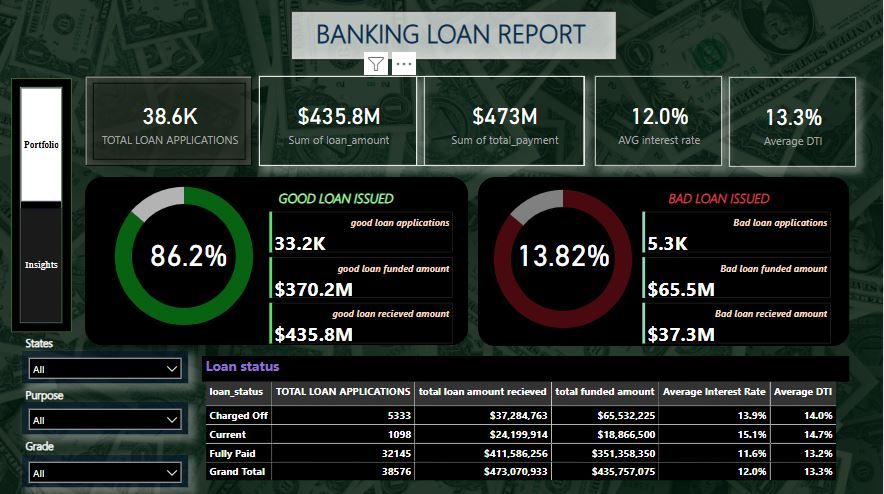

What the dashboard file says about the page in this screenshot:
{"tool":"powerbi","page":{"name":"Portfolio","canvas":[1280,720],"ordinal":0},"visuals":[{"type":"shape","box":[123.3,112,242.4,130.4],"z":0},{"type":"card","fields":{"Values":["Sum(financial_loan.loan_amount)"]},"box":[375.6,112,229.4,130.4],"z":0,"group":"g1"},{"type":"card","fields":{"Values":["financial_loan.AVG DTI"]},"box":[1055.4,113.4,183.9,130.4],"z":0,"group":"g2"},{"type":"textbox","box":[422.4,17,472,70.9],"z":1000},{"type":"card","fields":{"Values":["Sum(financial_loan.total_payment)"]},"box":[615.2,112,232.4,130.4],"z":1000,"group":"g1"},{"type":"card","fields":{"Values":["date table.AVG interest rate"]},"box":[861.7,112,184.3,130.4],"z":1000,"group":"g2"},{"type":"card","fields":{"Values":["financial_loan.TOTAL LOAN APPLICATIONS"]},"box":[134.6,121.9,221.1,110.6],"z":2000},{"type":"group","id":"g1","title":"Group 1","box":[375.6,112,472,130.4],"z":3000},{"type":"group","id":"g2","title":"Group 2","box":[861.7,112,377,131.8],"z":4000},{"type":"shape","box":[123.3,258,555.6,243.8],"z":5000},{"type":"shape","box":[693.1,258,538.6,245.2],"z":6000},{"type":"donutChart","fields":{"Y":["financial_loan.TOTAL LOAN APPLICATIONS"],"Category":["financial_loan.Good v/s Bad loans"]},"box":[103.5,242.4,327.4,260.8],"z":7000},{"type":"card","fields":{"Values":["financial_loan.Good Loan %"]},"box":[191.3,347.2,164.4,59.5],"z":8000},{"type":"textbox","box":[398.3,270.7,206.9,36.9],"z":9000},{"type":"cardVisual","fields":{"Data":["financial_loan.good loan applications","financial_loan.good loan funded amount","financial_loan.good good loan recieved amount"]},"box":[388.3,307.6,270.7,194.2],"z":10000},{"type":"donutChart","fields":{"Y":["financial_loan.TOTAL LOAN APPLICATIONS"],"Category":["financial_loan.Good v/s Bad loans"]},"box":[652,246.6,327.4,260.8],"z":11000},{"type":"card","fields":{"Values":["financial_loan.Bad Loan %"]},"box":[737,347.2,157.3,59.5],"z":12000},{"type":"cardVisual","fields":{"Data":["financial_loan.Bad loan applications","financial_loan.Bad loan funded amount","financial_loan.Bad loan recieved amount"]},"box":[928.3,307.6,277.8,194.2],"z":13000},{"type":"textbox","box":[963.8,270.7,206.9,36.9],"z":14000},{"type":"tableEx","title":"Loan status","fields":{"Values":["financial_loan.loan_status","financial_loan.TOTAL LOAN APPLICATIONS","financial_loan.total loan amount recieved","financial_loan.total funded amount","financial_loan.Average Interest Rate","financial_loan.Average DTI"]},"box":[293.4,517.3,938.3,185.7],"z":15000},{"type":"group","id":"g3","title":"Group 3","box":[32.6,483.3,240.9,225.4],"z":16000},{"type":"shape","box":[15.6,114.8,87.9,368.5],"z":17000},{"type":"slicer","fields":{"Values":["financial_loan.loan_status","financial_loan.address_state"]},"box":[32.6,510.6,240.9,47.4],"z":17000,"group":"g3"},{"type":"pageNavigator","box":[28.3,127.6,60.9,341.6],"z":18000},{"type":"textbox","box":[32.6,483.3,94.1,37.3],"z":18000,"group":"g3"},{"type":"slicer","fields":{"Values":["financial_loan.purpose"]},"box":[32.6,585.2,240.9,47.4],"z":19000,"group":"g3"},{"type":"slicer","fields":{"Values":["financial_loan.grade"]},"box":[32.6,661.3,240.9,47.4],"z":20000,"group":"g3"},{"type":"textbox","box":[32.6,557.9,120.5,37.3],"z":21000,"group":"g3"},{"type":"textbox","box":[32.6,632.6,94.1,37.3],"z":22000,"group":"g3"}]}

Visuals, with their boxes in screenshot pixels (x1, y1, x2, y2), scaled from the page's 1280x720 canvas onto the 884x494 screenshot:
shape: box=[85, 77, 253, 166]
card - Sum(financial_loan.loan_amount): box=[259, 77, 418, 166]
card - financial_loan.AVG DTI: box=[729, 78, 856, 167]
textbox: box=[292, 12, 618, 60]
card - Sum(financial_loan.total_payment): box=[425, 77, 585, 166]
card - date table.AVG interest rate: box=[595, 77, 722, 166]
card - financial_loan.TOTAL LOAN APPLICATIONS: box=[93, 84, 246, 160]
"Group 1" group: box=[259, 77, 585, 166]
"Group 2" group: box=[595, 77, 855, 167]
shape: box=[85, 177, 469, 344]
shape: box=[479, 177, 851, 345]
donutChart - financial_loan.TOTAL LOAN APPLICATIONS x financial_loan.Good v/s Bad loans: box=[71, 166, 298, 345]
card - financial_loan.Good Loan %: box=[132, 238, 246, 279]
textbox: box=[275, 186, 418, 211]
cardVisual - financial_loan.good loan applications x financial_loan.good loan funded amount: box=[268, 211, 455, 344]
donutChart - financial_loan.TOTAL LOAN APPLICATIONS x financial_loan.Good v/s Bad loans: box=[450, 169, 676, 348]
card - financial_loan.Bad Loan %: box=[509, 238, 618, 279]
cardVisual - financial_loan.Bad loan applications x financial_loan.Bad loan funded amount: box=[641, 211, 833, 344]
textbox: box=[666, 186, 809, 211]
"Loan status" tableEx: box=[203, 355, 851, 482]
"Group 3" group: box=[23, 332, 189, 486]
shape: box=[11, 79, 71, 332]
slicer - financial_loan.loan_status x financial_loan.address_state: box=[23, 350, 189, 383]
pageNavigator: box=[20, 88, 62, 322]
textbox: box=[23, 332, 88, 357]
slicer - financial_loan.purpose: box=[23, 402, 189, 434]
slicer - financial_loan.grade: box=[23, 454, 189, 486]
textbox: box=[23, 383, 106, 408]
textbox: box=[23, 434, 88, 460]
